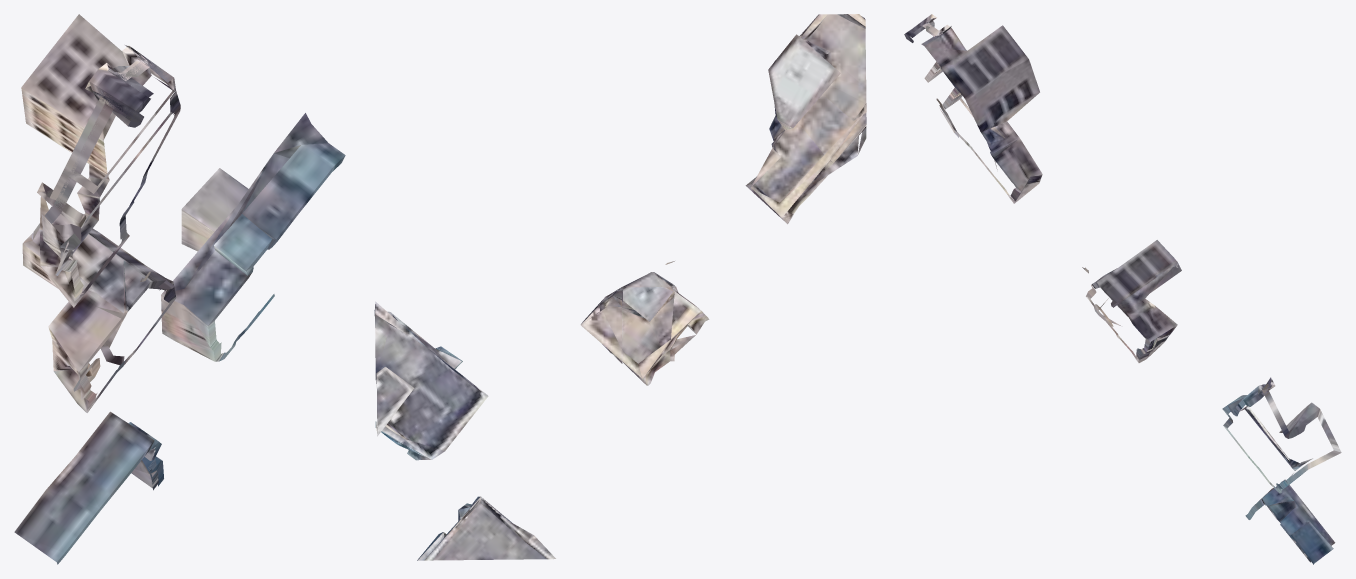
3 views of the same model, side by side, from view 1: azimuth 30°, elevation 25°; view 2: azimuth 150°, elevation 25°; view 3: azimuth 270°, elevation 25° (orthographic). The views are drawn at different scales.
Bounding box in the file's own units: 55.38 × 71.77 × 65.21.
Materials: 1 (1 with a texture image).
